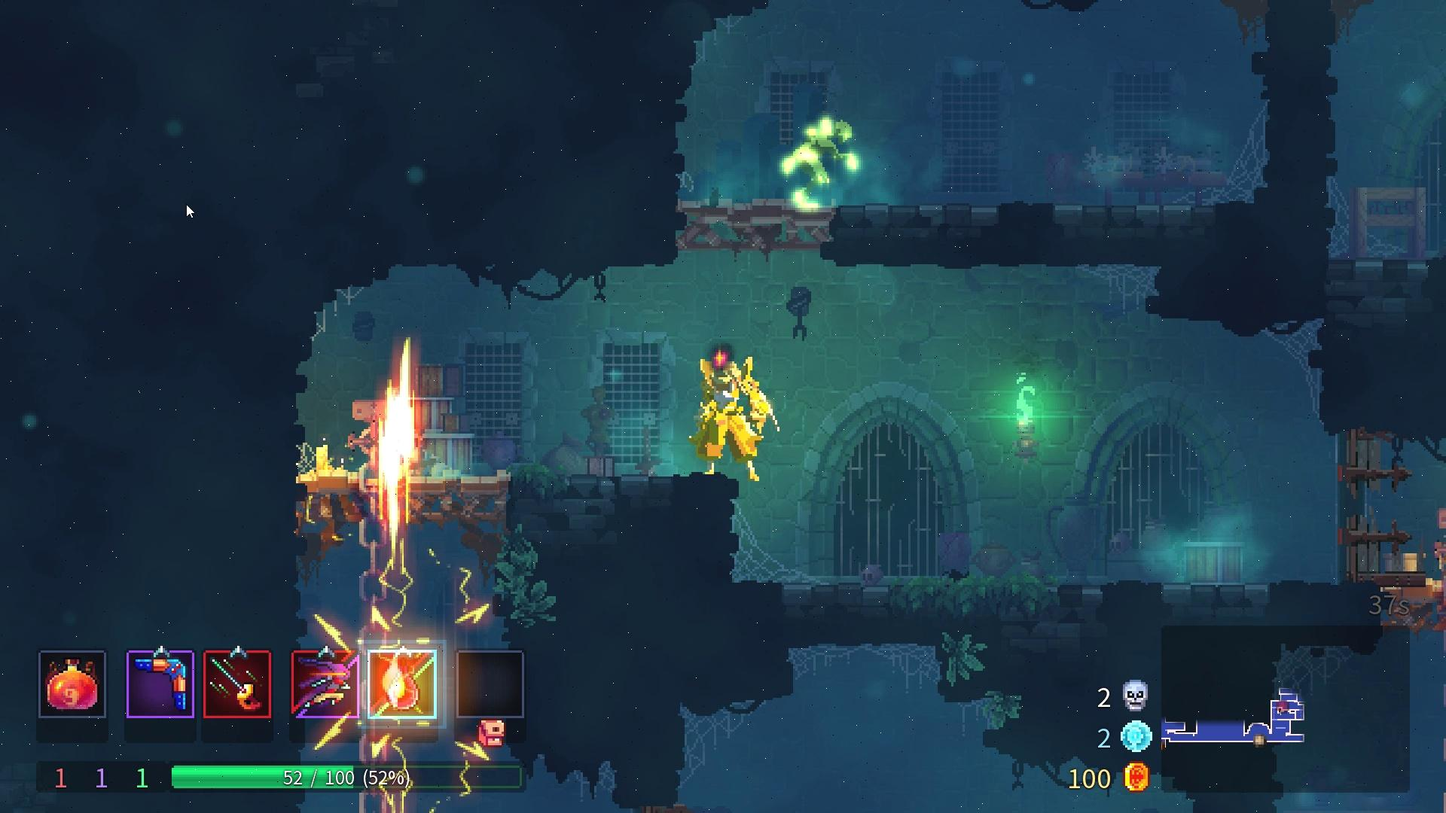gamer: (681, 343, 777, 482)
green1: (769, 97, 860, 209)
